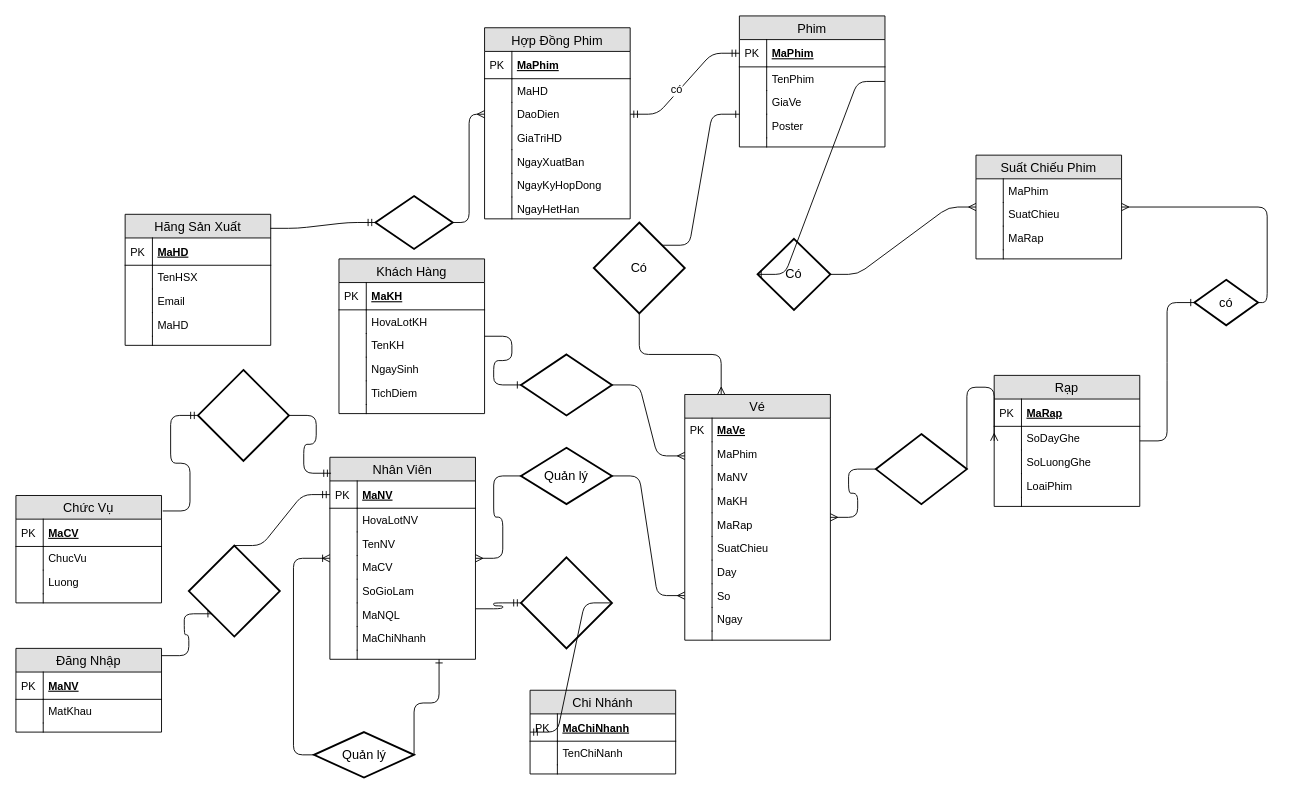
This 1290x794 diagram has some shape labels left out. The centre of each missing label's shape, as x and y in pixels:
chiếu: pixel 921 469
Ký: pixel 413 222
Làm Việc: pixel 566 602
truy cập: pixel 233 590
Đảm nhân: pixel 243 415
Đặt: pixel 566 384
